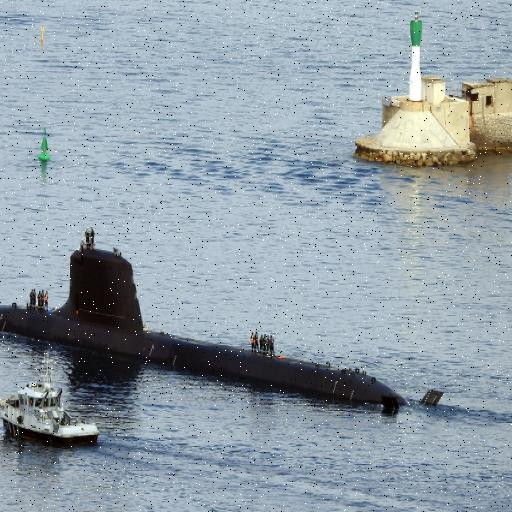submarine: (1, 246, 443, 423)
